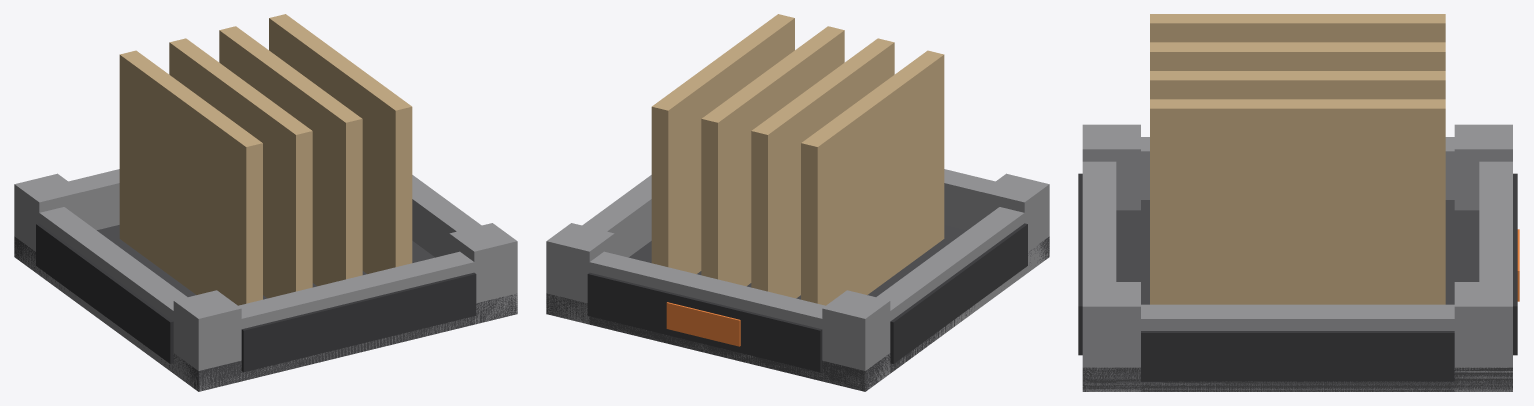
Rendered from vge_small_heatsink.obj.
3 views of the same model, side by side, from view 1: azimuth 30°, elevation 25°; view 2: azimuth 150°, elevation 25°; view 3: azimuth 270°, elevation 25° (orthographic). The views are drawn at different scales.
Parts seen in each view (by area): view 1: vge_small_heatsink_9, vge_small_heatsink_11, vge_small_heatsink_12, vge_small_heatsink_10, vge_small_heatsink_1, vge_small_heatsink_13, vge_small_heatsink_3, vge_small_heatsink_15, vge_small_heatsink_0, vge_small_heatsink_5, vge_small_heatsink_2, vge_small_heatsink_4 (+2 smaller); view 2: vge_small_heatsink_9, vge_small_heatsink_11, vge_small_heatsink_12, vge_small_heatsink_10, vge_small_heatsink_2, vge_small_heatsink_14, vge_small_heatsink_0, vge_small_heatsink_15, vge_small_heatsink_3, vge_small_heatsink_6, vge_small_heatsink_8, vge_small_heatsink_1 (+3 smaller); view 3: vge_small_heatsink_12, vge_small_heatsink_16, vge_small_heatsink_4, vge_small_heatsink_0, vge_small_heatsink_9, vge_small_heatsink_10, vge_small_heatsink_11, vge_small_heatsink_1, vge_small_heatsink_2, vge_small_heatsink_7, vge_small_heatsink_8, vge_small_heatsink_6 (+4 smaller).
Boxes of the visible parts, <box> form: vge_small_heatsink_9: <box>119,50,262,305</box>; vge_small_heatsink_11: <box>219,26,362,286</box>; vge_small_heatsink_12: <box>269,14,412,273</box>; vge_small_heatsink_10: <box>169,38,312,298</box>; vge_small_heatsink_1: <box>184,251,517,390</box>; vge_small_heatsink_13: <box>241,272,476,372</box>; vge_small_heatsink_3: <box>29,205,187,380</box>; vge_small_heatsink_15: <box>36,223,173,363</box>; vge_small_heatsink_0: <box>14,225,517,391</box>; vge_small_heatsink_5: <box>173,290,241,390</box>; vge_small_heatsink_2: <box>14,169,119,266</box>; vge_small_heatsink_4: <box>412,175,481,257</box>; vge_small_heatsink_9: <box>801,50,944,305</box>; vge_small_heatsink_11: <box>701,26,844,286</box>; vge_small_heatsink_12: <box>651,14,794,273</box>; vge_small_heatsink_10: <box>751,38,894,298</box>; vge_small_heatsink_2: <box>546,251,879,391</box>; vge_small_heatsink_14: <box>587,272,822,372</box>; vge_small_heatsink_0: <box>546,225,1049,391</box>; vge_small_heatsink_15: <box>890,223,1027,363</box>; vge_small_heatsink_3: <box>876,205,1034,378</box>; vge_small_heatsink_6: <box>822,290,890,391</box>; vge_small_heatsink_8: <box>546,223,614,324</box>; vge_small_heatsink_1: <box>944,169,1049,267</box>; vge_small_heatsink_12: <box>1150,99,1445,304</box>; vge_small_heatsink_16: <box>1141,331,1454,381</box>; vge_small_heatsink_4: <box>1116,304,1479,391</box>; vge_small_heatsink_0: <box>1082,200,1512,391</box>; vge_small_heatsink_9: <box>1150,14,1445,42</box>; vge_small_heatsink_10: <box>1150,42,1445,70</box>; vge_small_heatsink_11: <box>1150,71,1445,99</box>; vge_small_heatsink_1: <box>1082,161,1116,391</box>; vge_small_heatsink_2: <box>1479,161,1512,391</box>; vge_small_heatsink_7: <box>1082,282,1140,391</box>; vge_small_heatsink_8: <box>1454,282,1512,391</box>; vge_small_heatsink_6: <box>1454,124,1512,210</box>.
Bounding box in the file's own units: 1.96 × 1.18 × 1.97.
